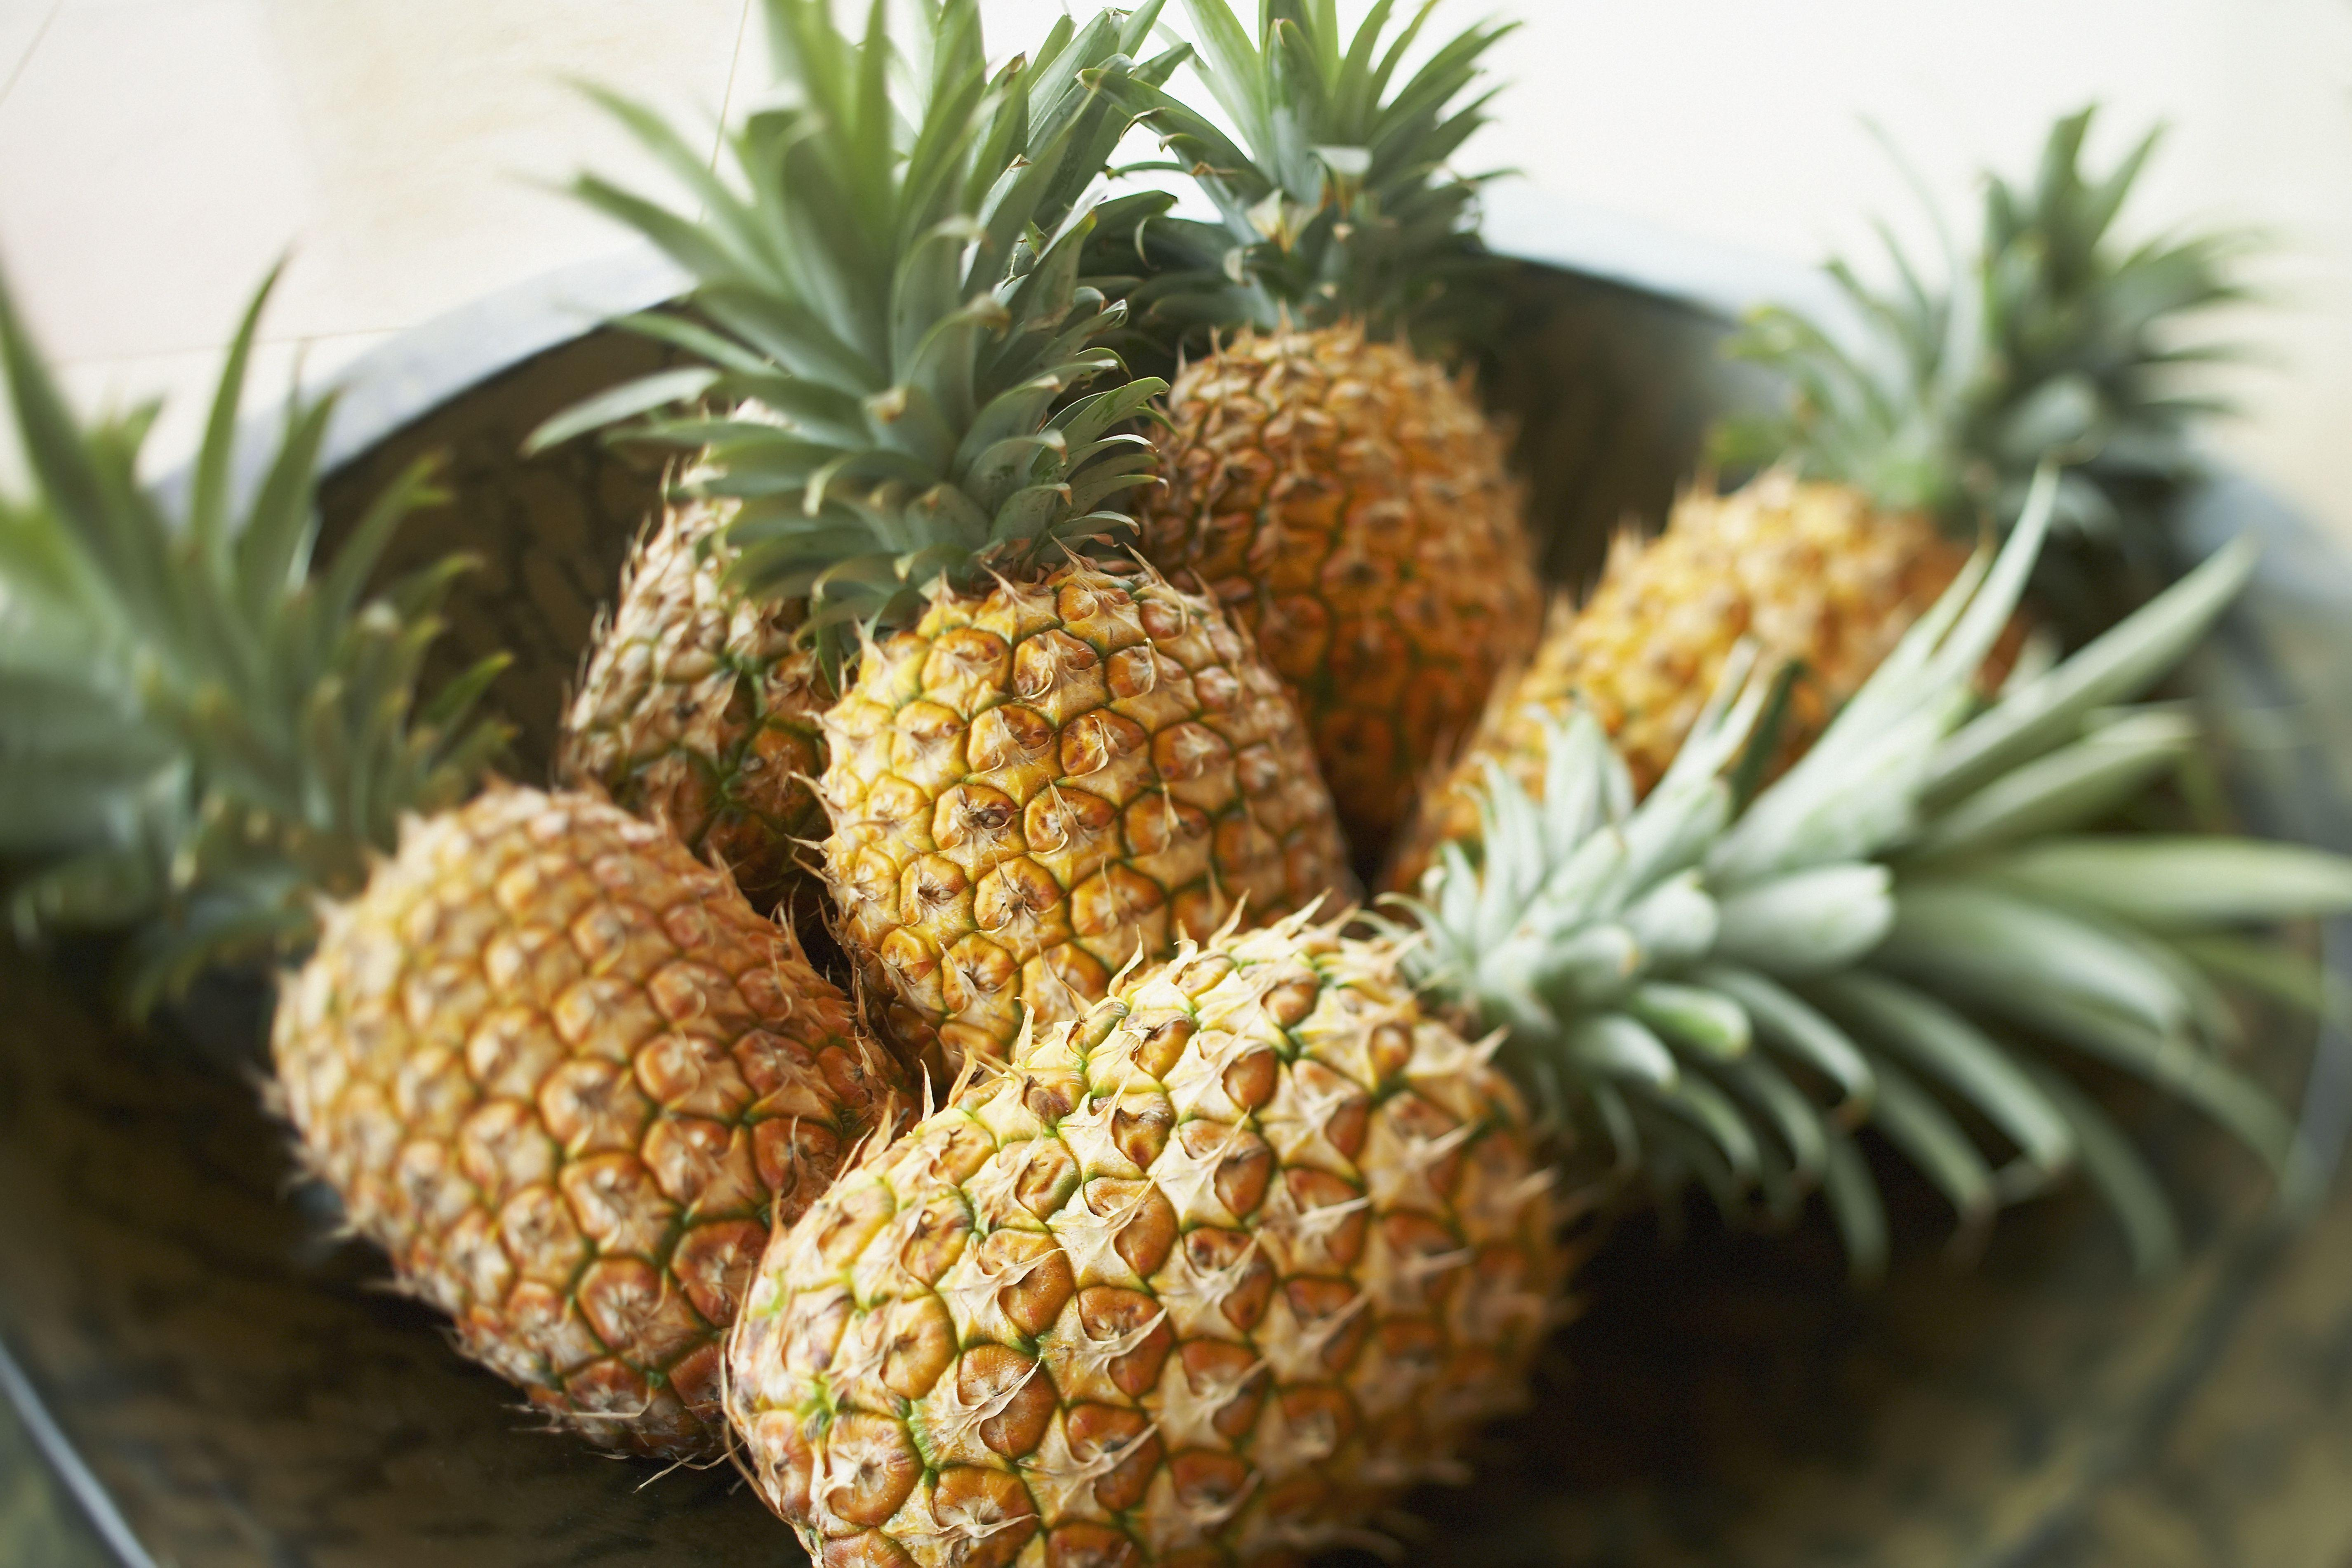pineapple: (713, 826, 2119, 1568), (0, 327, 855, 1378), (623, 9, 1416, 906)
